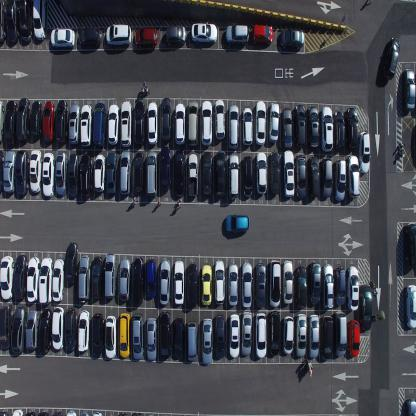car: (382, 36, 401, 80), (12, 253, 28, 301), (11, 305, 26, 355), (38, 256, 53, 304), (0, 254, 15, 301), (77, 254, 91, 304), (26, 255, 40, 304), (131, 256, 144, 307), (93, 102, 107, 149), (103, 252, 117, 299), (37, 307, 51, 354), (0, 303, 14, 350), (105, 23, 132, 47), (15, 150, 29, 196), (158, 312, 171, 361), (346, 155, 360, 200), (186, 100, 199, 148), (145, 150, 158, 198), (54, 152, 68, 196), (190, 22, 218, 44), (51, 259, 65, 303), (64, 308, 78, 352), (16, 97, 30, 141), (360, 284, 373, 331), (346, 265, 359, 312), (201, 151, 214, 198), (119, 150, 132, 197), (307, 313, 320, 360), (42, 151, 55, 198), (320, 106, 333, 152), (321, 263, 334, 309), (294, 312, 307, 358), (118, 314, 131, 360), (4, 99, 17, 145), (269, 259, 281, 308), (294, 155, 307, 200), (268, 311, 281, 356), (213, 315, 226, 360), (214, 150, 226, 198), (160, 96, 172, 144), (120, 100, 132, 148), (335, 310, 347, 358), (321, 314, 333, 362), (186, 262, 198, 310), (132, 313, 144, 361), (293, 104, 306, 148), (107, 103, 120, 147), (278, 29, 304, 51), (118, 258, 131, 302), (91, 256, 104, 300), (77, 309, 90, 353), (6, 0, 19, 44), (29, 149, 42, 193), (227, 104, 239, 151), (255, 312, 267, 359), (159, 259, 171, 306), (25, 309, 39, 349), (345, 106, 358, 149), (65, 242, 78, 285), (19, 0, 32, 43), (42, 100, 55, 143), (201, 100, 213, 146), (174, 102, 186, 148), (159, 146, 171, 192), (68, 152, 80, 198), (225, 23, 249, 46), (173, 260, 185, 306), (174, 149, 185, 199), (33, 0, 46, 42), (106, 152, 118, 197), (55, 99, 67, 144), (80, 153, 92, 198), (309, 261, 321, 306), (105, 315, 117, 360), (92, 313, 104, 358), (52, 307, 64, 352), (283, 150, 294, 199), (228, 153, 239, 202), (357, 132, 370, 173), (320, 158, 333, 199), (282, 315, 295, 356), (307, 105, 319, 149), (133, 151, 145, 195), (80, 104, 92, 148), (241, 310, 252, 358), (201, 318, 212, 366), (172, 316, 184, 360), (145, 317, 157, 361), (3, 149, 15, 193), (50, 28, 75, 49), (134, 100, 145, 147), (241, 262, 252, 309), (308, 156, 320, 199), (404, 68, 416, 111), (68, 102, 80, 145), (255, 100, 266, 146), (147, 100, 158, 146), (296, 264, 307, 310), (282, 260, 293, 306), (255, 263, 266, 309), (214, 260, 225, 306), (229, 314, 240, 360), (334, 160, 346, 202), (281, 108, 293, 150), (186, 320, 198, 362), (187, 153, 198, 198), (201, 263, 212, 308), (347, 320, 360, 358), (269, 152, 280, 196), (256, 151, 267, 195), (134, 27, 157, 48), (405, 222, 415, 270), (78, 27, 102, 47), (334, 266, 346, 306), (145, 258, 157, 298), (225, 214, 250, 233), (214, 98, 225, 141), (30, 100, 42, 139), (242, 156, 253, 198), (252, 24, 274, 45), (405, 284, 415, 330), (268, 102, 279, 143), (228, 262, 238, 307), (242, 107, 253, 147), (165, 26, 187, 46), (333, 111, 344, 150), (94, 154, 105, 192), (0, 0, 7, 44), (0, 149, 5, 191), (405, 398, 415, 416), (0, 99, 4, 141), (11, 408, 23, 415), (37, 410, 49, 416), (65, 409, 77, 415), (92, 409, 104, 415), (25, 409, 36, 415), (52, 410, 63, 416), (132, 410, 142, 415), (0, 409, 8, 415), (79, 411, 89, 415), (118, 411, 128, 415)
